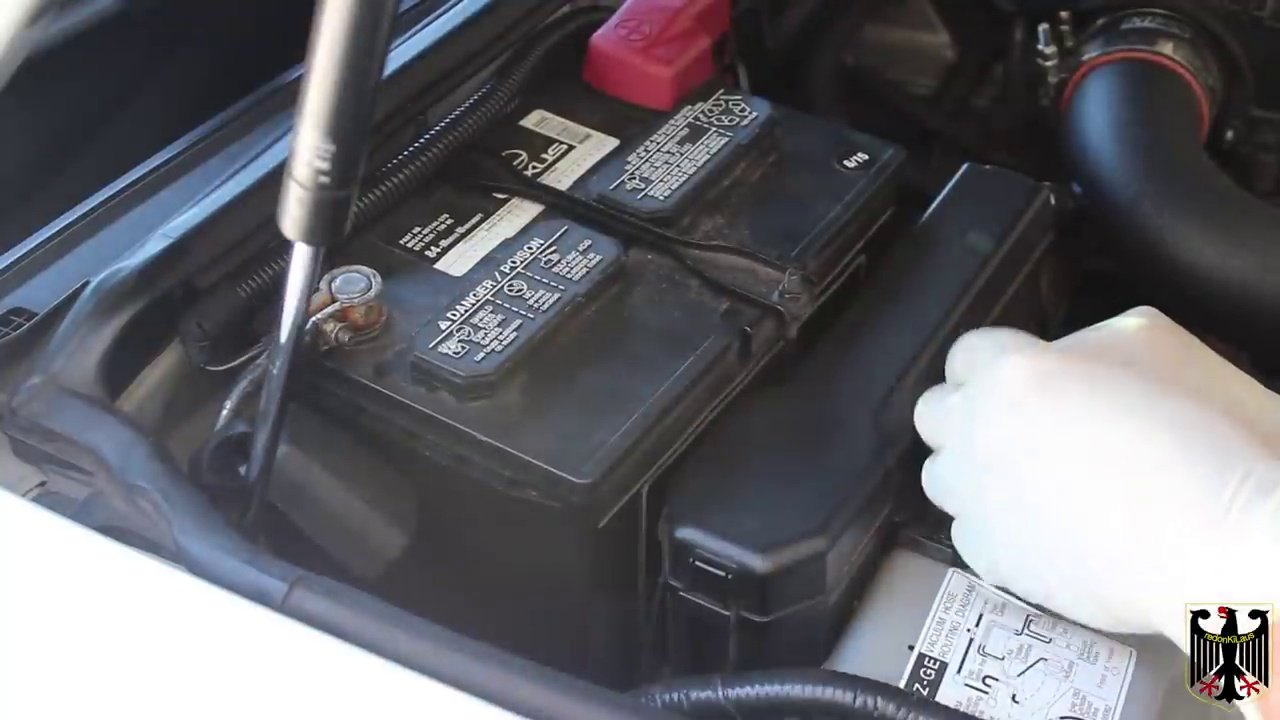battery: (255, 23, 909, 501)
neg_connected: (264, 249, 407, 383)
pos_connected: (545, 1, 776, 126)
